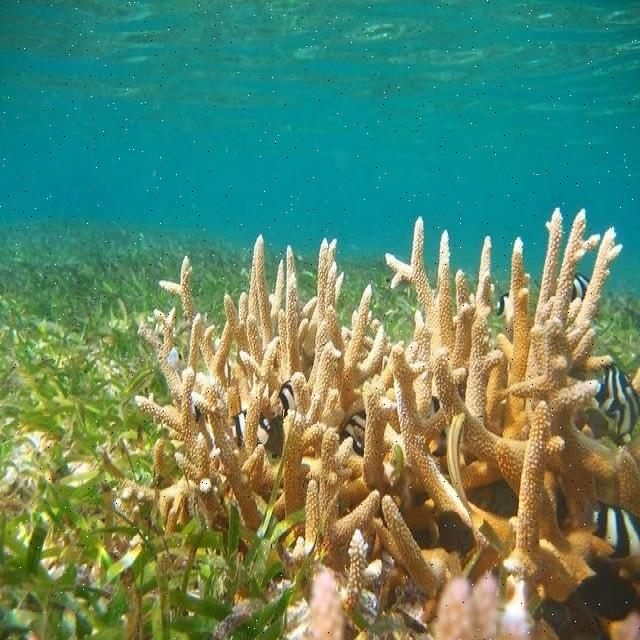fish: (595, 363, 639, 436), (590, 502, 639, 561)
reefs: (117, 205, 639, 620)
